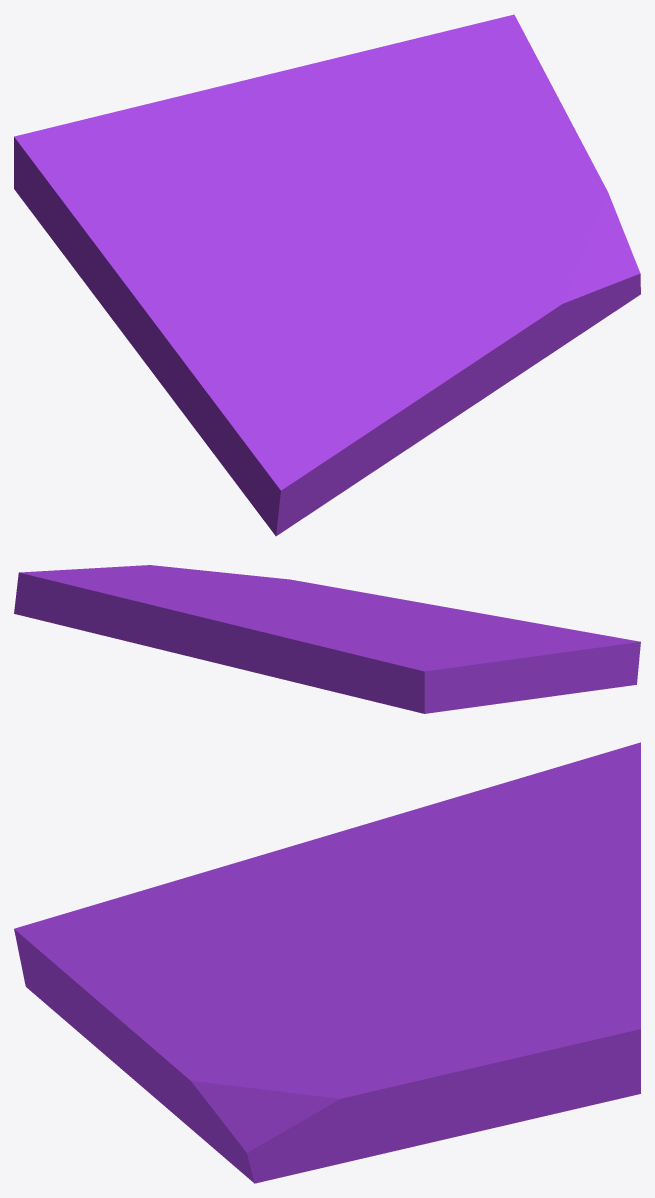
The model's file is Window_160_2_chunks.fbx.
The picture shows the model from 3 angles, top to bottom: view 1: azimuth 30°, elevation 25°; view 2: azimuth 150°, elevation 25°; view 3: azimuth 270°, elevation 25°; orthographic projection. The views are drawn at different scales.
Parts seen in each view (by area): view 1: Window_160_2_13, Window_160_2_0, Window_160_2_8, Window_160_2_16, Window_160_2_1, Window_160_2_12, Window_160_2_23, Window_160_2_21, Window_160_2_10, Window_160_2_4, Window_160_2_6, Window_160_2_18 (+14 smaller); view 2: Window_160_2_13, Window_160_2_22, Window_160_2_21, Window_160_2_8, Window_160_2_12, Window_160_2_4, Window_160_2_16, Window_160_2_1, Window_160_2_0, Window_160_2_2, Window_160_2_23, Window_160_2_19 (+11 smaller); view 3: Window_160_2_4, Window_160_2_0, Window_160_2_16, Window_160_2_13, Window_160_2_1, Window_160_2_8, Window_160_2_3, Window_160_2_23, Window_160_2_21, Window_160_2_10, Window_160_2_6, Window_160_2_18 (+14 smaller).
Part boxes in pixels (<box>): Window_160_2_13: <box>14,106,156,301</box>; Window_160_2_0: <box>393,197,632,284</box>; Window_160_2_8: <box>200,370,358,536</box>; Window_160_2_16: <box>137,88,313,243</box>; Window_160_2_1: <box>169,258,332,423</box>; Window_160_2_12: <box>99,247,233,409</box>; Window_160_2_23: <box>369,70,504,168</box>; Window_160_2_21: <box>211,55,372,144</box>; Window_160_2_10: <box>272,291,398,400</box>; Window_160_2_4: <box>492,14,596,171</box>; Window_160_2_6: <box>449,284,579,378</box>; Window_160_2_18: <box>305,168,403,297</box>; Window_160_2_13: <box>320,645,503,713</box>; Window_160_2_22: <box>37,577,174,652</box>; Window_160_2_21: <box>155,602,270,657</box>; Window_160_2_8: <box>511,623,640,692</box>; Window_160_2_12: <box>446,638,564,704</box>; Window_160_2_4: <box>14,566,167,632</box>; Window_160_2_16: <box>264,618,407,677</box>; Window_160_2_1: <box>406,621,599,674</box>; Window_160_2_0: <box>157,565,357,607</box>; Window_160_2_2: <box>196,593,292,675</box>; Window_160_2_23: <box>87,579,213,605</box>; Window_160_2_19: <box>265,615,316,686</box>; Window_160_2_4: <box>345,1016,640,1162</box>; Window_160_2_0: <box>217,973,386,1143</box>; Window_160_2_16: <box>392,813,640,923</box>; Window_160_2_13: <box>411,742,640,835</box>; Window_160_2_1: <box>133,851,372,943</box>; Window_160_2_8: <box>14,893,196,998</box>; Window_160_2_3: <box>305,995,434,1168</box>; Window_160_2_23: <box>427,950,586,1034</box>; Window_160_2_21: <box>508,855,640,951</box>; Window_160_2_10: <box>120,913,293,983</box>; Window_160_2_6: <box>120,1019,237,1133</box>; Window_160_2_18: <box>260,922,478,984</box>.
Size of the model in its own units: 1014 by 398 by 926.
